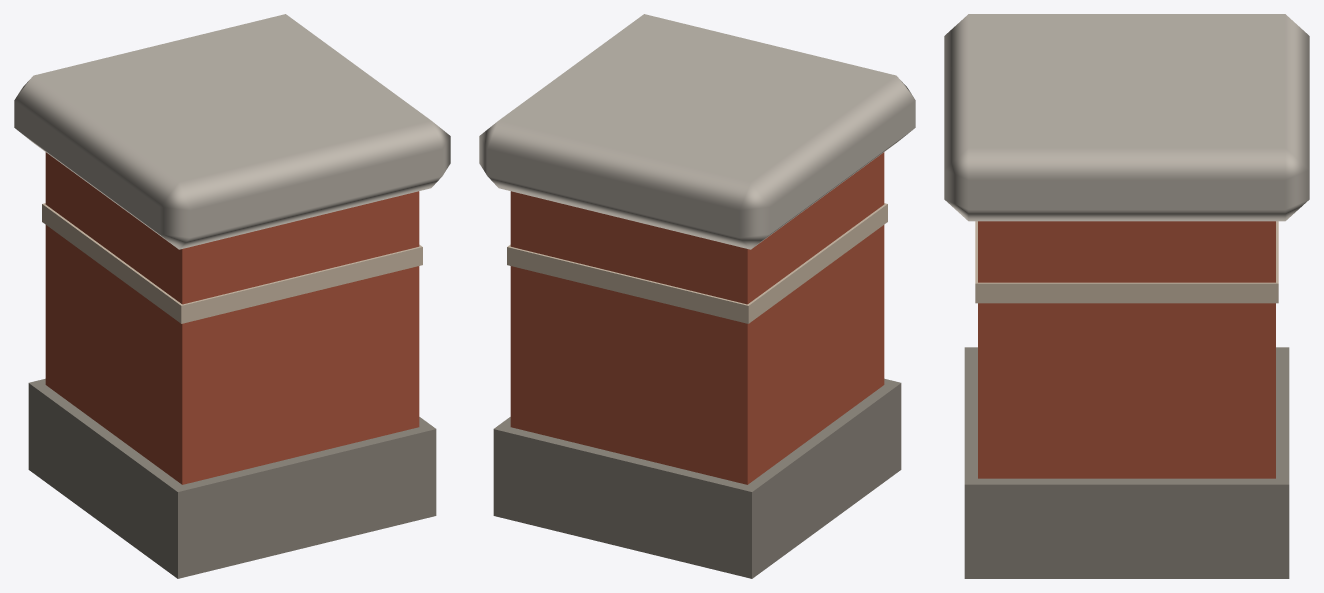
File: pfosten_sockel.glb
3 views of the same model, side by side, from view 1: azimuth 30°, elevation 25°; view 2: azimuth 150°, elevation 25°; view 3: azimuth 270°, elevation 25° (orthographic). The views are drawn at different scales.
Parts seen in each view (by area): view 1: pfosten_sockel; view 2: pfosten_sockel; view 3: pfosten_sockel.
Boxes of the visible parts, left/top/right/bottom form: pfosten_sockel: left=14, top=14, right=450, bottom=578; pfosten_sockel: left=479, top=14, right=915, bottom=578; pfosten_sockel: left=944, top=14, right=1309, bottom=578.
Bounding box in the file's own units: 0.27 × 0.35 × 0.27.
